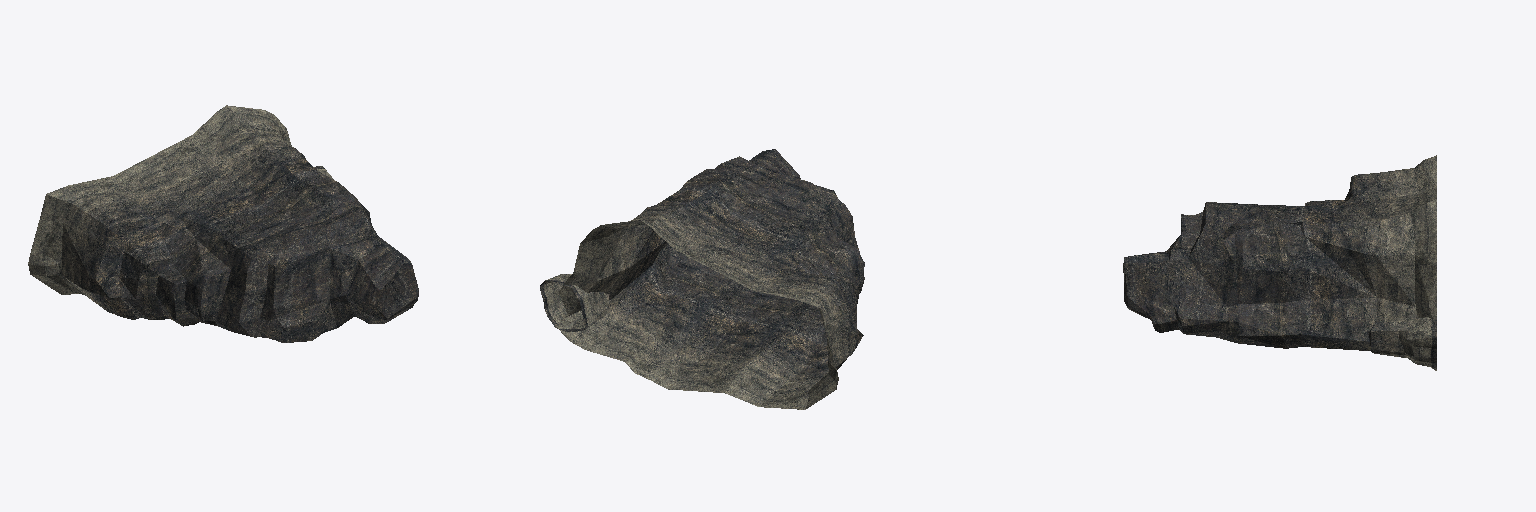
3 views of the same model, side by side, from view 1: azimuth 30°, elevation 25°; view 2: azimuth 150°, elevation 25°; view 3: azimuth 270°, elevation 25° (orthographic).
Parts seen in each view (by area): view 1: Body.rock_desert_i.smd.mesh_0; view 2: Body.rock_desert_i.smd.mesh_0; view 3: Body.rock_desert_i.smd.mesh_0.
Boxes of the visible parts, x1=… form: Body.rock_desert_i.smd.mesh_0: x1=28, y1=105, x2=418, y2=342; Body.rock_desert_i.smd.mesh_0: x1=540, y1=149, x2=864, y2=409; Body.rock_desert_i.smd.mesh_0: x1=1123, y1=155, x2=1436, y2=370.
Size of the model in its own units: 393 by 204 by 357.
Materials: 1 (1 with a texture image).